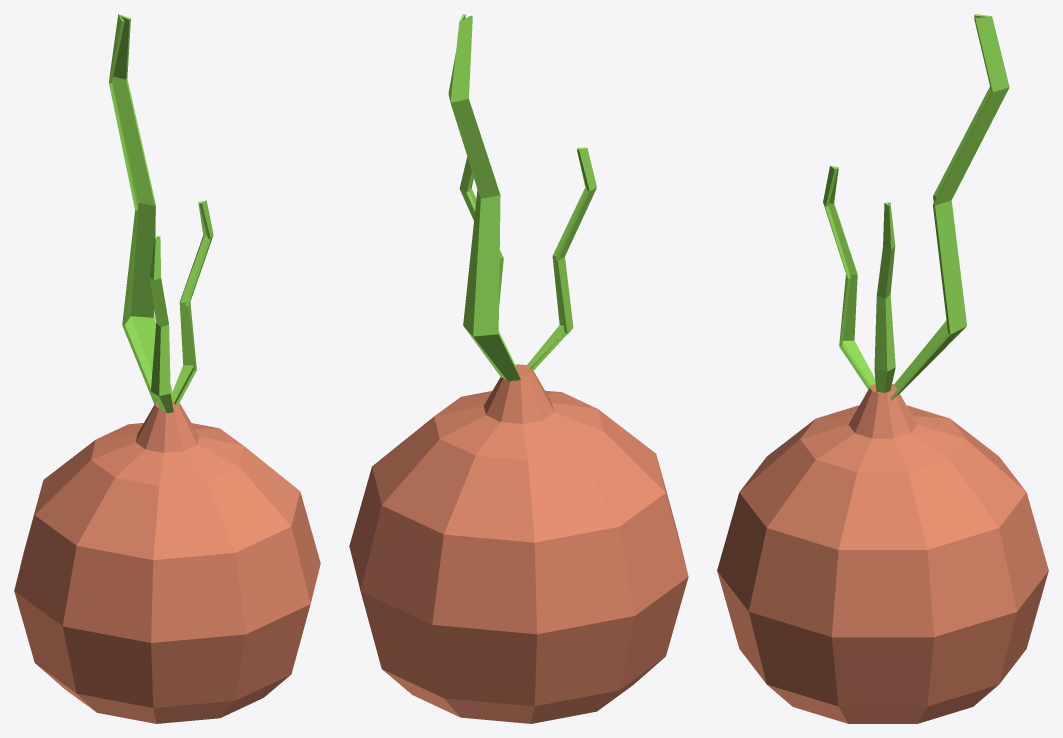
The model's file is fruit08.fbx.
3 renders of one model, left to right at view 1: azimuth 30°, elevation 25°; view 2: azimuth 150°, elevation 25°; view 3: azimuth 270°, elevation 25°, orthographic. The views are drawn at different scales.
Visible parts, largest first — view 1: Plane.003; view 2: Plane.003; view 3: Plane.003.
Part boxes in pixels (x1,y1,x2,y2): Plane.003: [14, 14, 320, 723]; Plane.003: [349, 14, 688, 723]; Plane.003: [717, 14, 1048, 723].
Bounding box in the file's own units: 0.0567 × 0.1317 × 0.0596.
